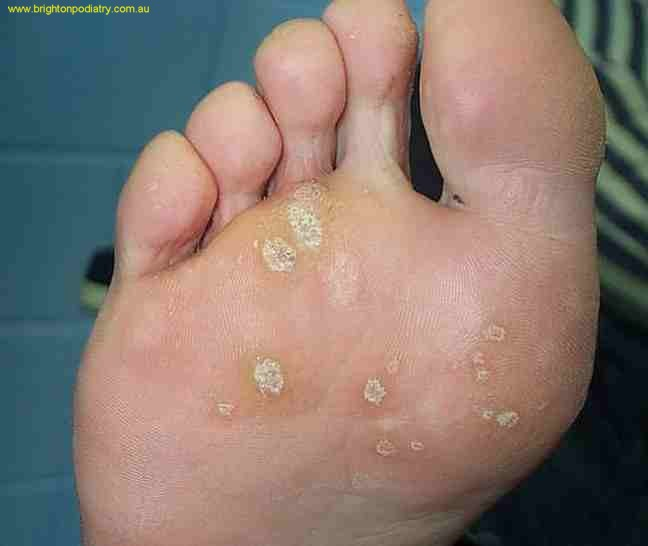Wart: (238, 170, 344, 285), (462, 323, 532, 440), (247, 346, 299, 415), (354, 358, 411, 410), (371, 432, 432, 466)
